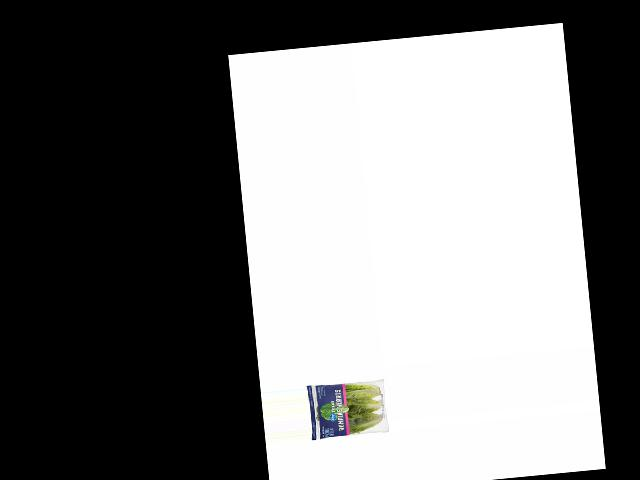lettuce: (307, 376, 387, 442)
